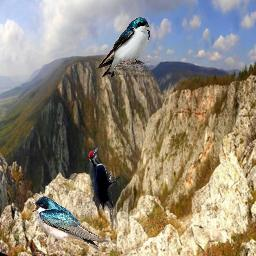Swallow: (30, 195, 111, 251), (97, 17, 150, 77)
Woodpecker: (88, 146, 120, 216)
